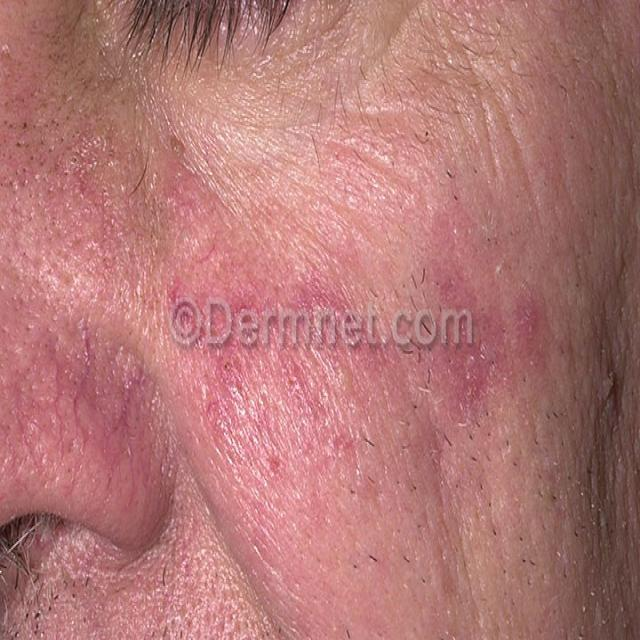Rosacea: (161, 136, 550, 585), (0, 114, 164, 502)
